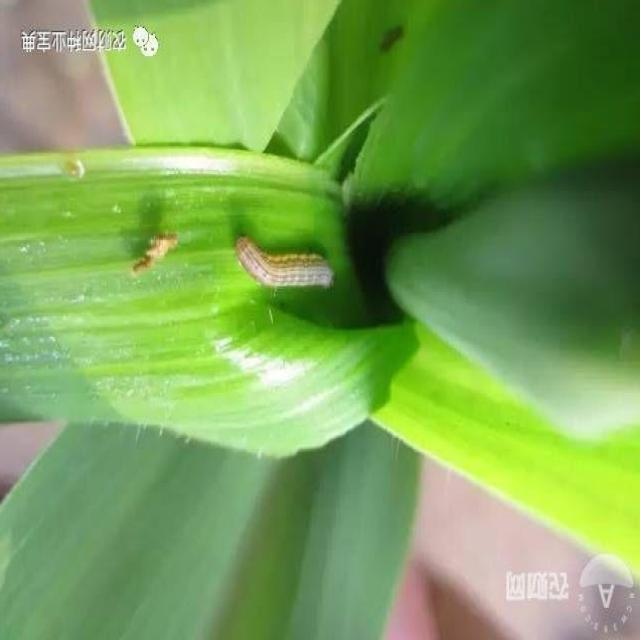army worm: (228, 225, 340, 291), (130, 227, 180, 283)
